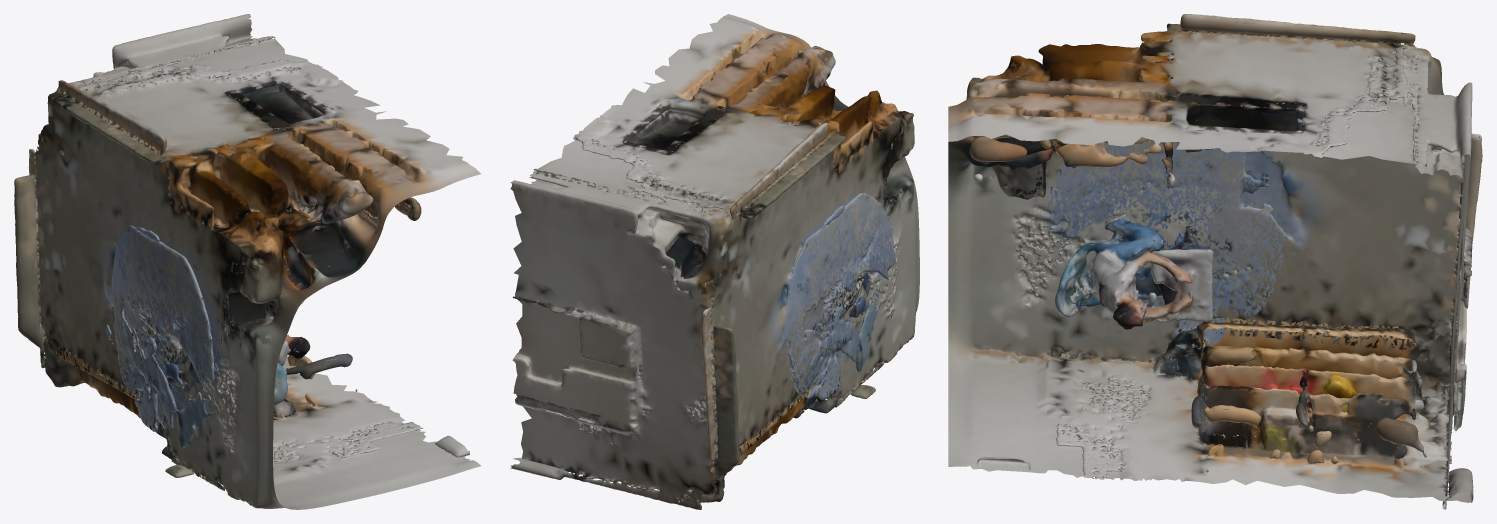
3 renders of one model, left to right at view 1: azimuth 30°, elevation 25°; view 2: azimuth 150°, elevation 25°; view 3: azimuth 270°, elevation 25°, orthographic. The views are drawn at different scales.
Visible parts, largest first — view 1: answering_questions_86; view 2: answering_questions_86; view 3: answering_questions_86.
Part boxes in pixels (bbox=[...]): answering_questions_86: bbox=[14, 14, 480, 509]; answering_questions_86: bbox=[510, 14, 919, 509]; answering_questions_86: bbox=[948, 14, 1482, 509].
Size of the model in its own units: 2.38 by 3.23 by 4.11.
Materials: 1 (1 with a texture image).
